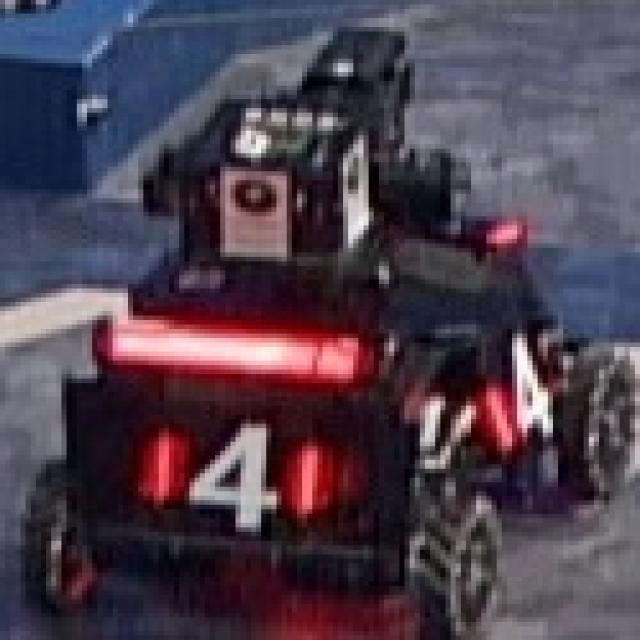R4: (138, 414, 338, 532), (471, 329, 563, 451)
